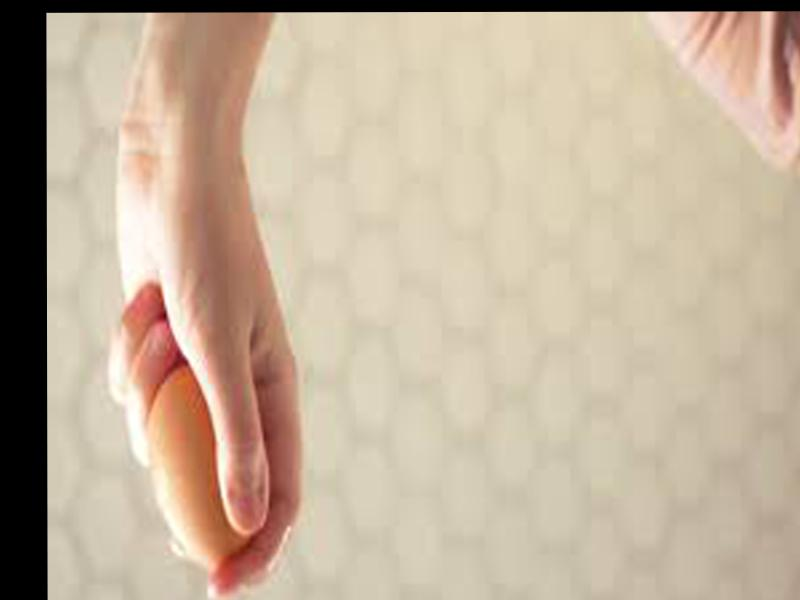Eggs: (142, 365, 260, 565)
